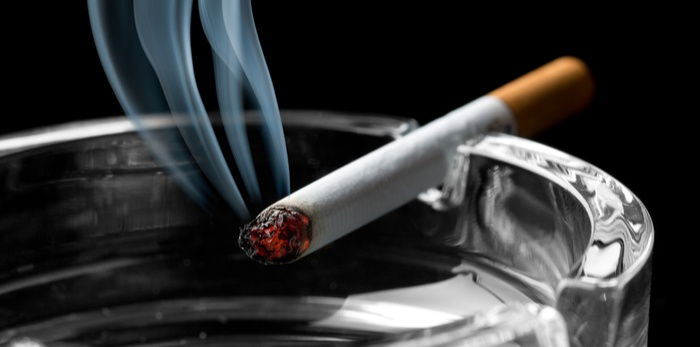sigaretta: (245, 57, 592, 264)
